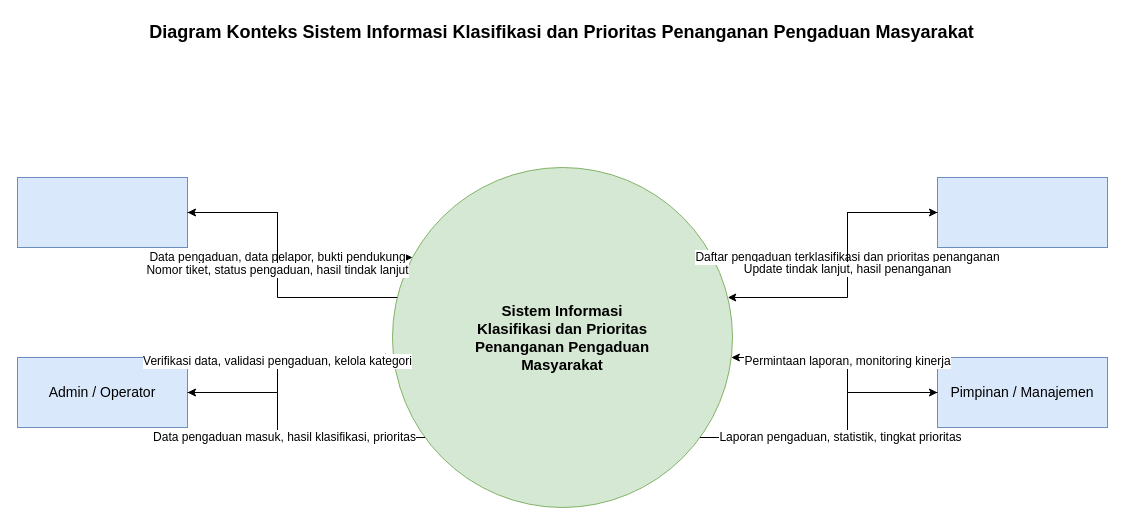
Image size: 1125x525. Some labels were removed from this diagram. Here are the shapes that lost their labels. From the top down, the centre of each, then its label:
At point (102, 212): "Masyarakat / Pelapor".
At point (1022, 212): "Petugas Penanganan".
